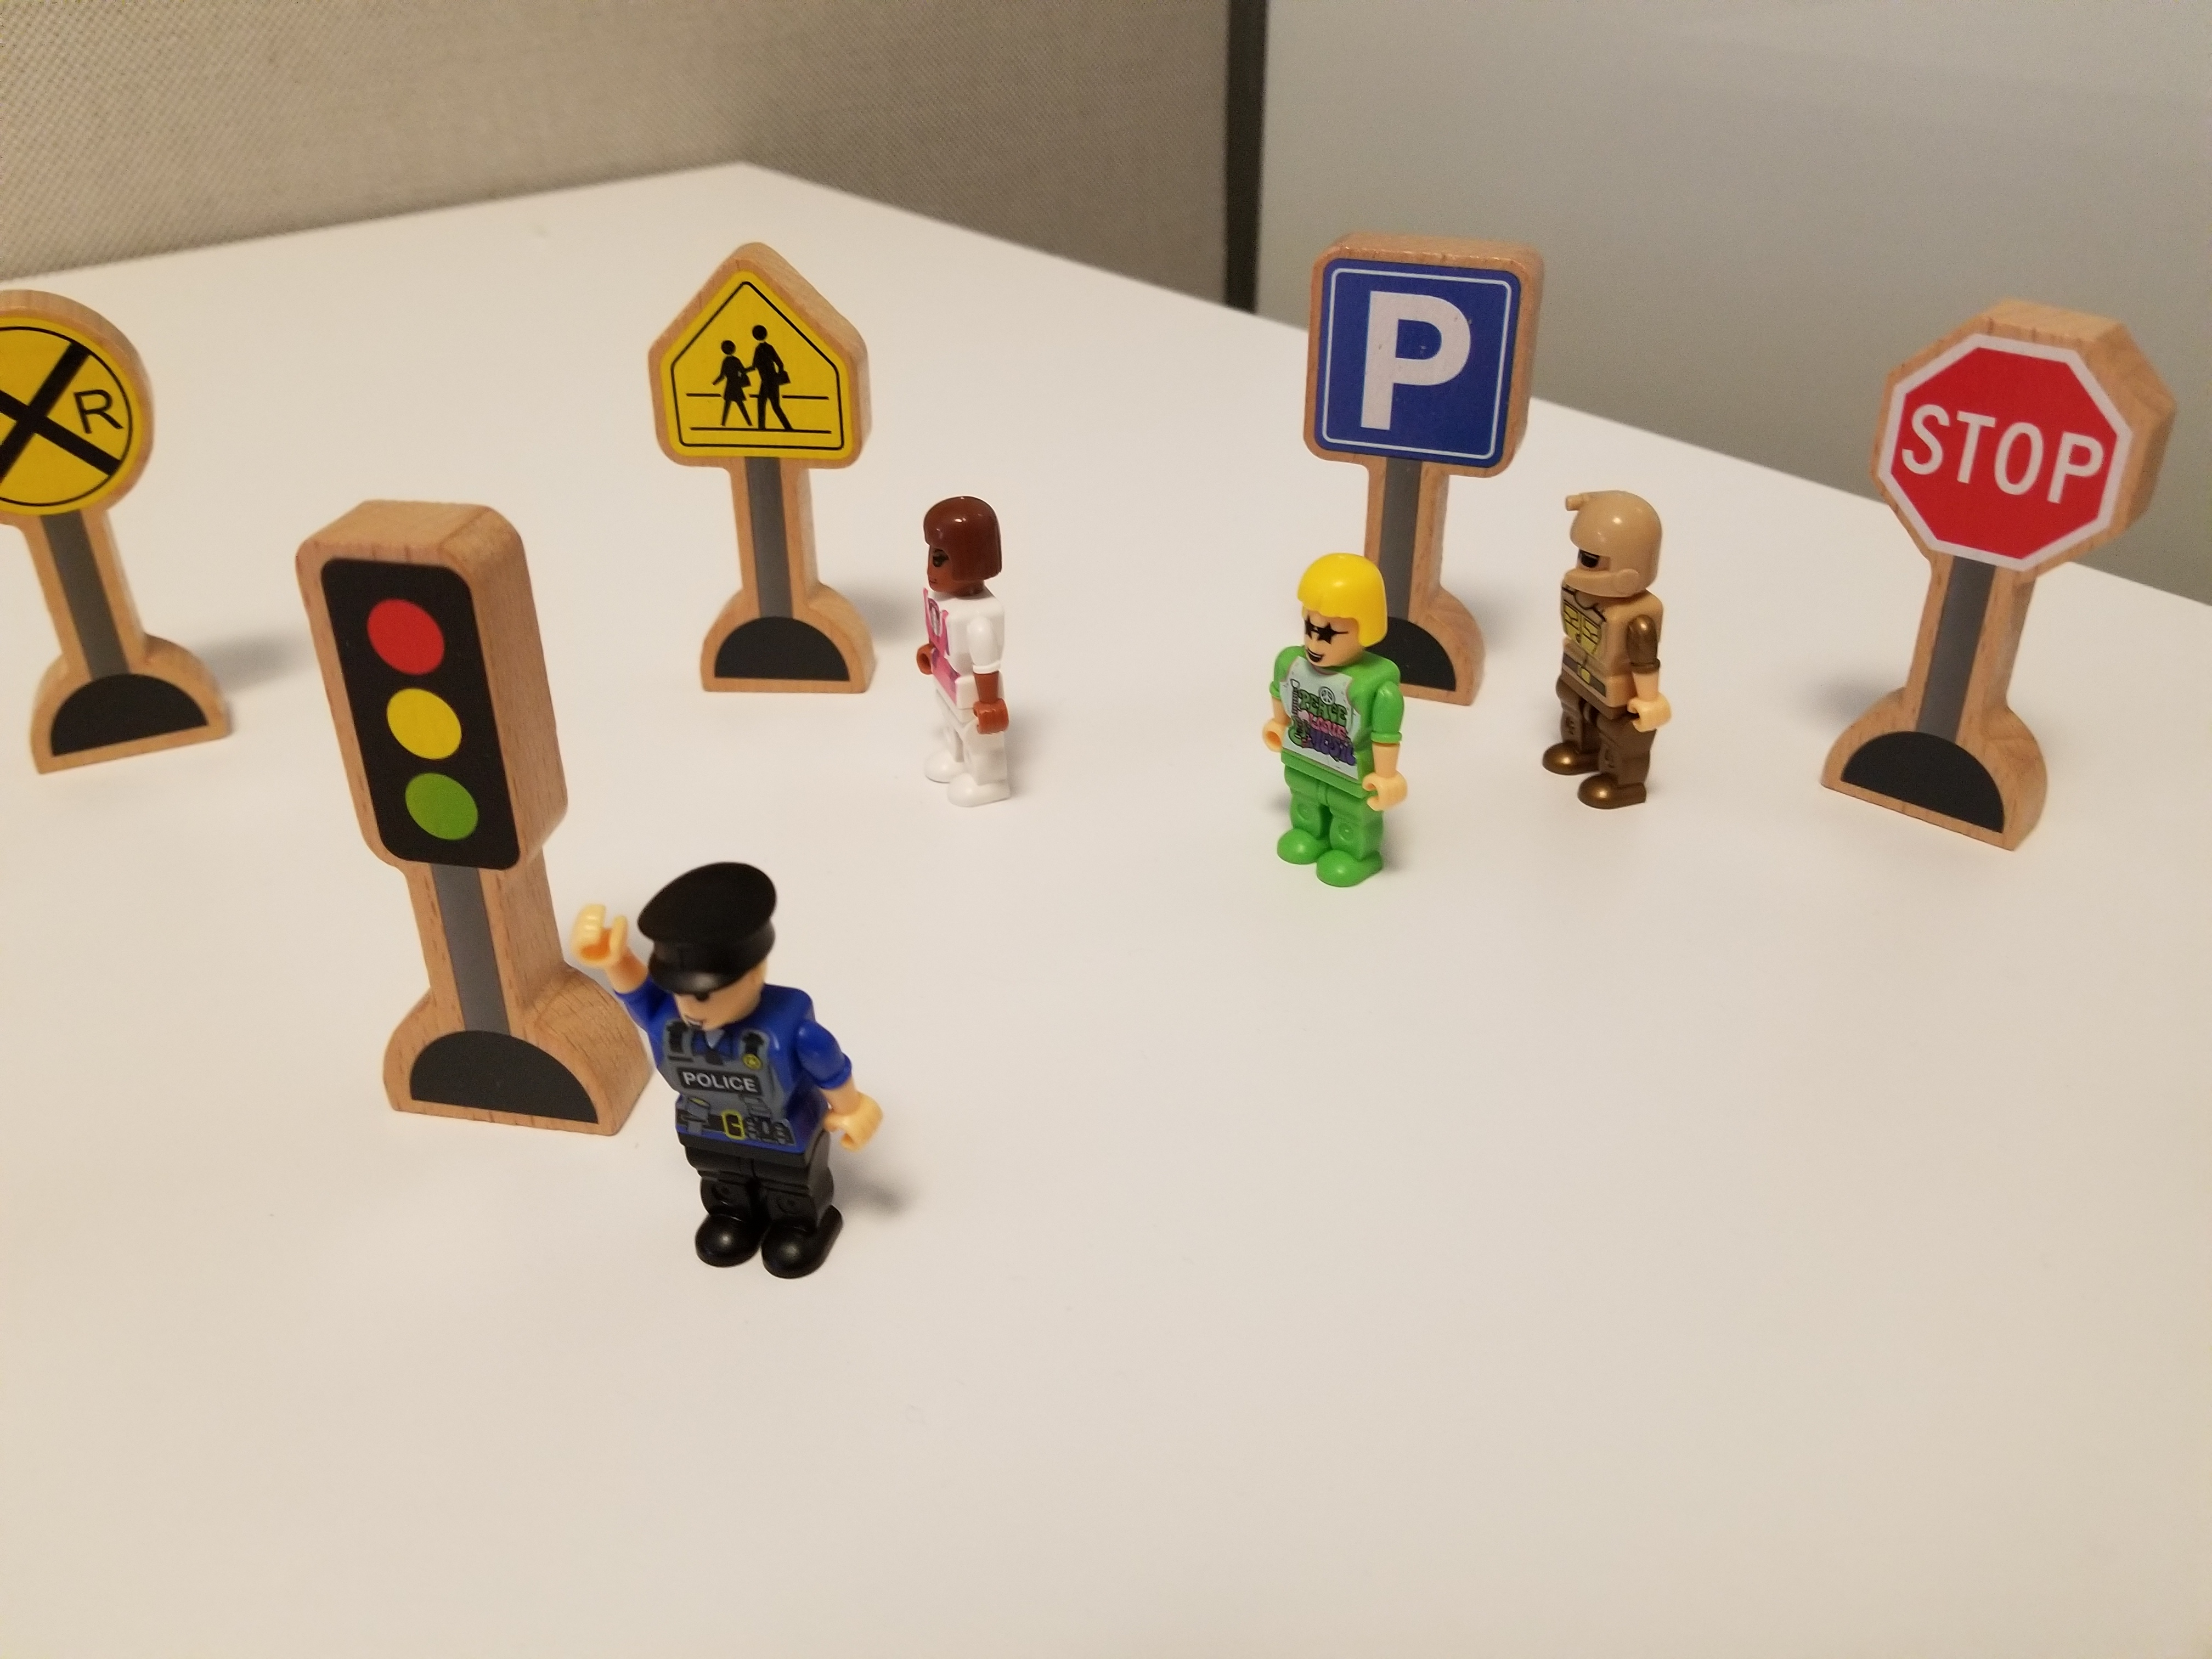Parking: (1267, 179, 1537, 477)
Pedestrian crossing: (618, 256, 888, 719)
Railroad Crossing: (1, 287, 216, 804)
Stop: (1838, 247, 2160, 896)
Traffic Light: (282, 479, 618, 1160)
person: (569, 824, 947, 1348), (1245, 543, 1432, 927), (1531, 466, 1693, 859), (881, 462, 1030, 817)
